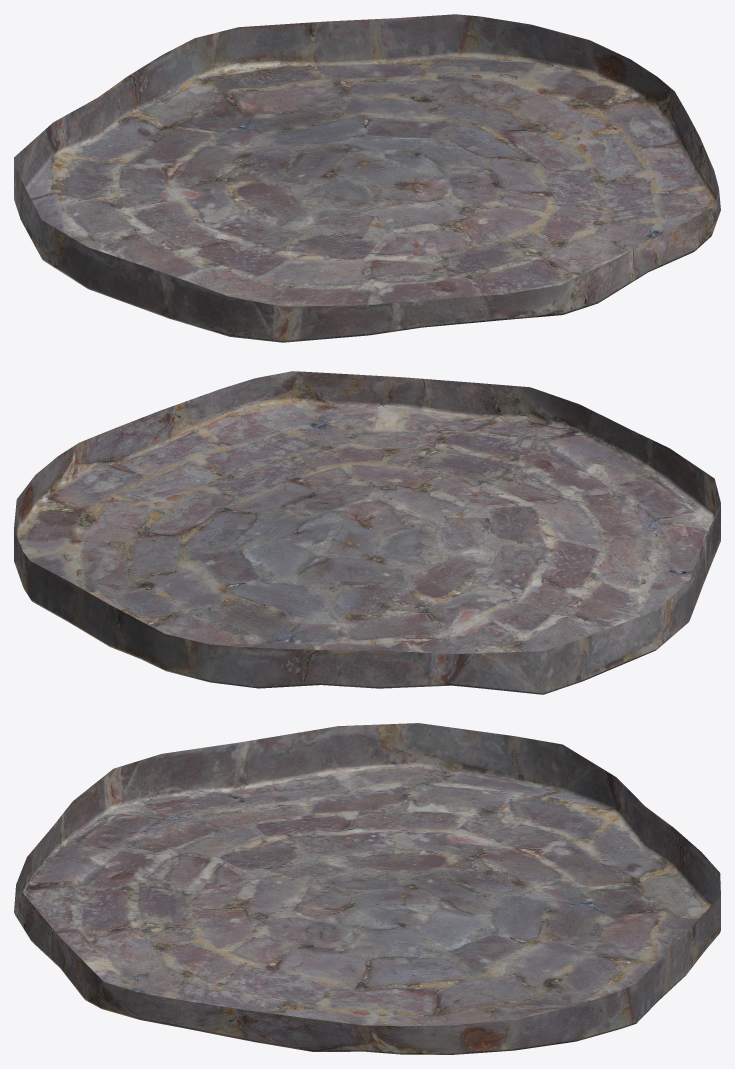
The model's file is SM_CryptCeiling_02_05.fbx.
The picture shows the model from 3 angles, top to bottom: view 1: azimuth 30°, elevation 25°; view 2: azimuth 150°, elevation 25°; view 3: azimuth 270°, elevation 25°; orthographic projection. The views are drawn at different scales.
Visible parts, largest first — view 1: sm_CryptCeiling_02_05_LOD0; view 2: sm_CryptCeiling_02_05_LOD0; view 3: sm_CryptCeiling_02_05_LOD0.
Boxes of the visible parts, x1,y1,x2,y2 form: sm_CryptCeiling_02_05_LOD0: (14,14,720,342); sm_CryptCeiling_02_05_LOD0: (14,371,720,694); sm_CryptCeiling_02_05_LOD0: (14,723,720,1054).
Bounding box in the file's own units: 135 × 138 × 9.85.
